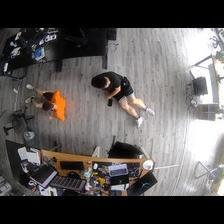fall: (89, 69, 154, 127), (20, 82, 67, 121)
